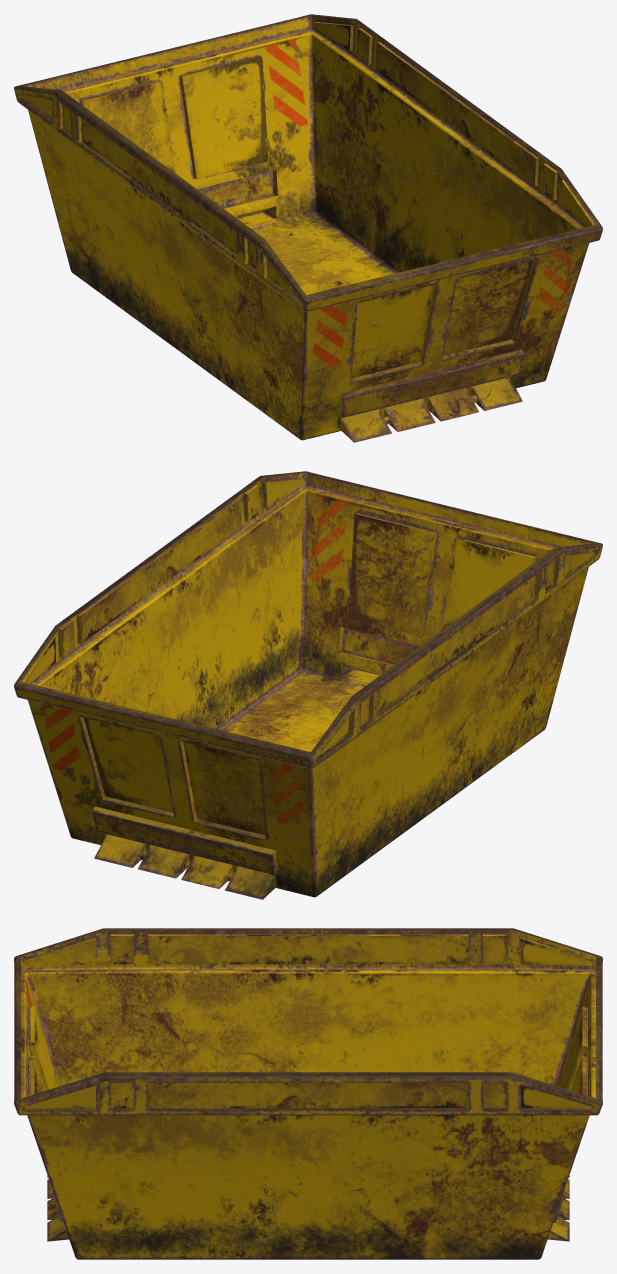
The model's file is skip.glb.
3 views of the same model, one above another, from view 1: azimuth 30°, elevation 25°; view 2: azimuth 150°, elevation 25°; view 3: azimuth 270°, elevation 25° (orthographic).
Parts seen in each view (by area): view 1: Cube.001; view 2: Cube.001; view 3: Cube.001.
Boxes of the visible parts, bbox=[...] form: Cube.001: bbox=[14, 14, 602, 442]; Cube.001: bbox=[14, 471, 602, 899]; Cube.001: bbox=[14, 928, 602, 1259].
Size of the model in its own units: 406 by 253 by 679.
1 material, 1 textured.
